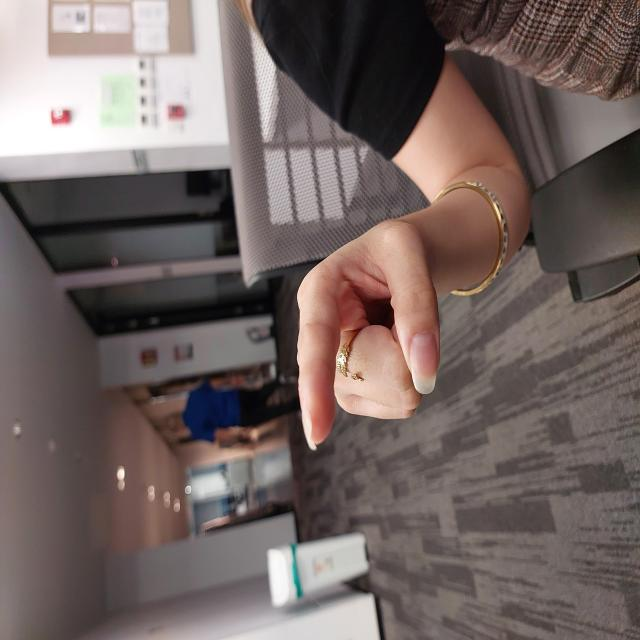Z: (186, 294, 426, 442)
